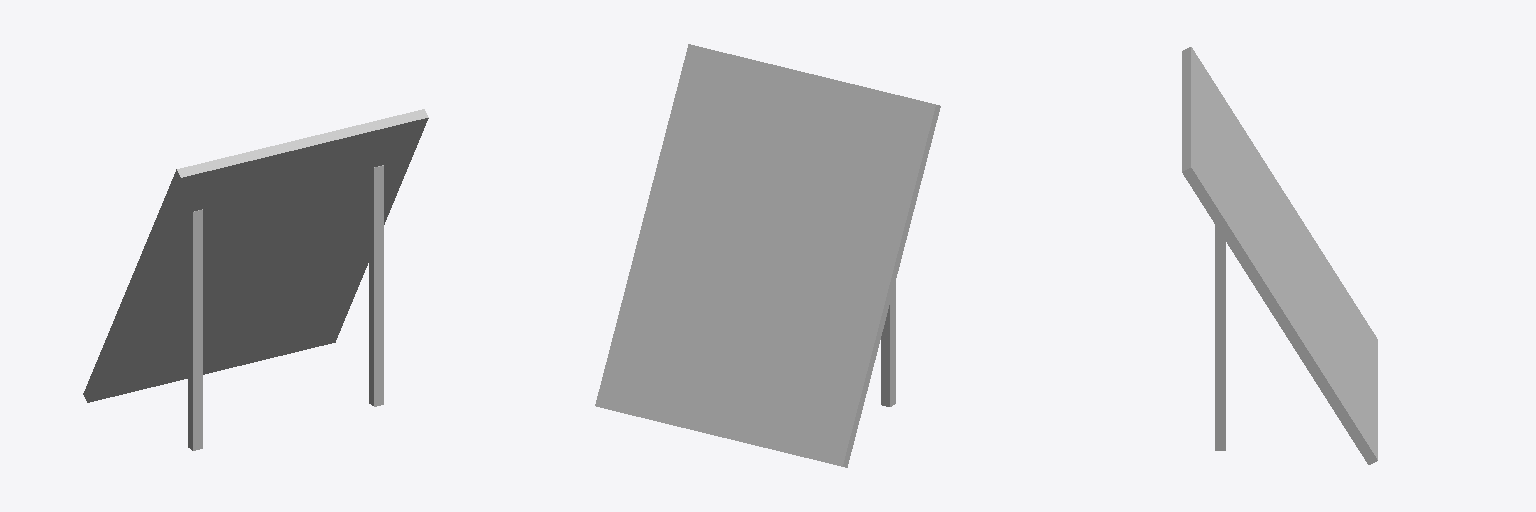
File: solar_panel.obj
3 renders of one model, left to right at view 1: azimuth 30°, elevation 25°; view 2: azimuth 150°, elevation 25°; view 3: azimuth 270°, elevation 25°, orthographic.
Visible parts, largest first — view 1: solar, leg; view 2: solar, leg; view 3: solar, leg.
Part boxes in pixels (bbox=[...]): solar: bbox=[83, 109, 428, 402]; leg: bbox=[188, 165, 383, 450]; solar: bbox=[595, 44, 940, 467]; leg: bbox=[881, 282, 895, 406]; solar: bbox=[1182, 47, 1377, 464]; leg: bbox=[1215, 225, 1225, 450].
Bounding box in the file's own units: 1.62 × 1.87 × 1.12.